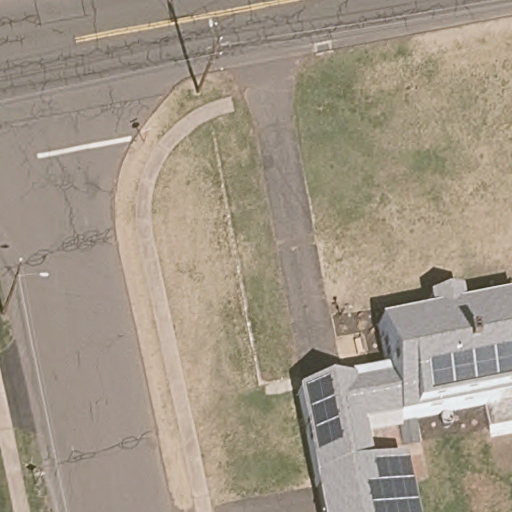DT: (193, 17, 226, 95)
